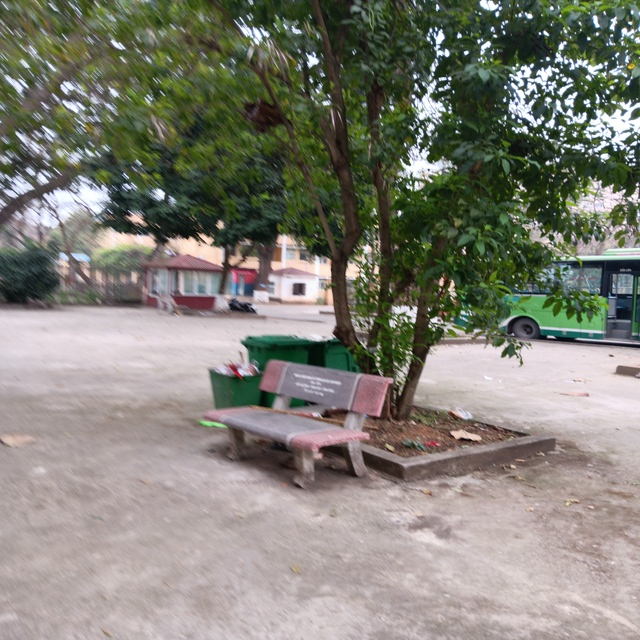thungrac: (237, 325, 312, 419), (296, 326, 362, 426), (208, 356, 263, 439)
